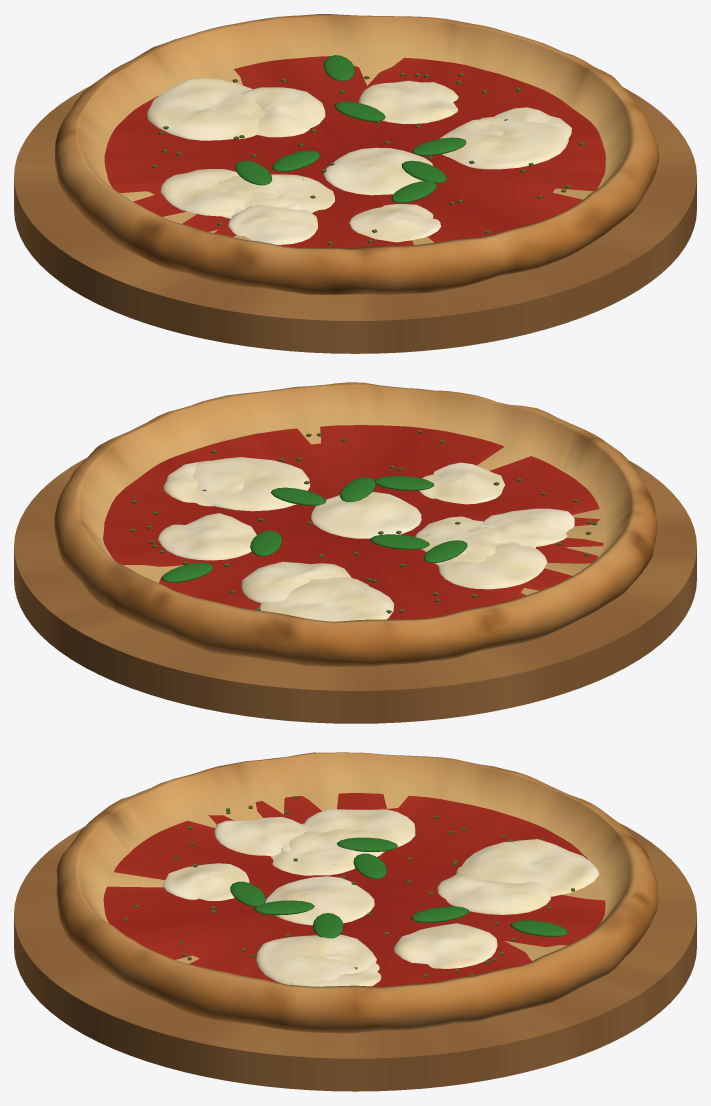
The model's file is pizza-margherita.glb.
3 views of the same model, one above another, from view 1: azimuth 30°, elevation 25°; view 2: azimuth 150°, elevation 25°; view 3: azimuth 270°, elevation 25° (orthographic).
Visible parts, largest first — view 1: pizza-margherita; view 2: pizza-margherita; view 3: pizza-margherita.
Boxes of the visible parts, bbox=[...] form: pizza-margherita: bbox=[14, 14, 696, 353]; pizza-margherita: bbox=[14, 382, 696, 723]; pizza-margherita: bbox=[14, 752, 696, 1091].
Bounding box in the file's own units: 0.34 × 0.0432 × 0.34.
